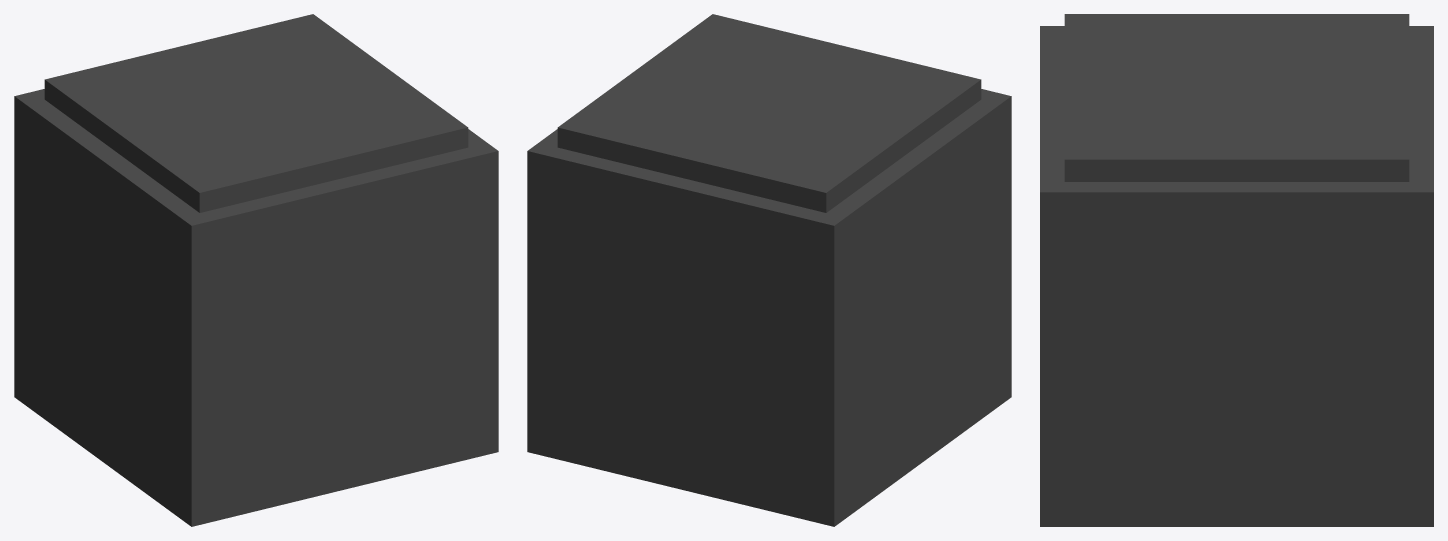
Rendered from Moyou6.obj.
3 renders of one model, left to right at view 1: azimuth 30°, elevation 25°; view 2: azimuth 150°, elevation 25°; view 3: azimuth 270°, elevation 25°, orthographic. The views are drawn at different scales.
Parts seen in each view (by area): view 1: Moyou6; view 2: Moyou6; view 3: Moyou6.
Boxes of the visible parts, x1,y1,x2,y2 form: Moyou6: [14, 14, 498, 526]; Moyou6: [527, 14, 1011, 526]; Moyou6: [1040, 14, 1433, 526].
Bounding box in the file's own units: 16 × 16 × 16.
Materials: 1 (1 with a texture image).
